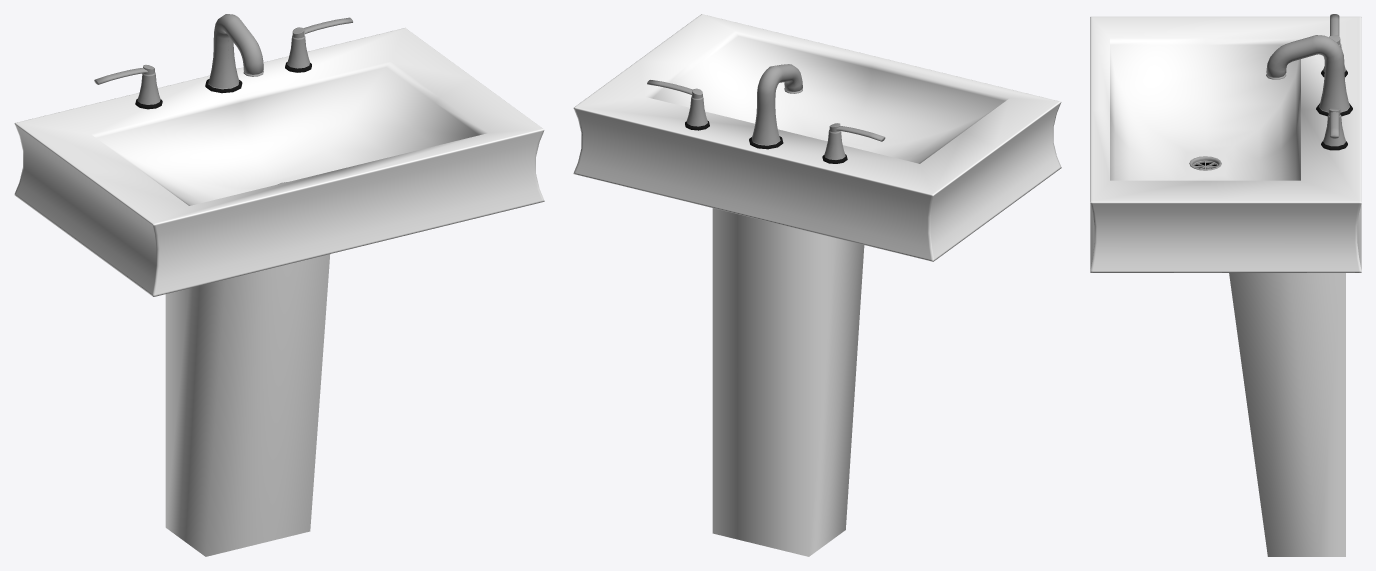
Rendered from bath3.glb.
3 renders of one model, left to right at view 1: azimuth 30°, elevation 25°; view 2: azimuth 150°, elevation 25°; view 3: azimuth 270°, elevation 25°, orthographic. The views are drawn at different scales.
Parts seen in each view (by area): view 1: Cube, Circle.001; view 2: Cube, Circle.001; view 3: Cube, Circle.001.
Part boxes in pixels (x1,y1,x2,y2): Cube: [14, 28, 544, 556]; Circle.001: [94, 14, 352, 184]; Cube: [573, 14, 1061, 556]; Circle.001: [647, 64, 885, 163]; Cube: [1090, 16, 1361, 556]; Circle.001: [1189, 14, 1352, 170].
Bounding box in the file's own units: 0.5938 × 0.7387 × 0.3664.
Materials: 4 (2 with a texture image).
